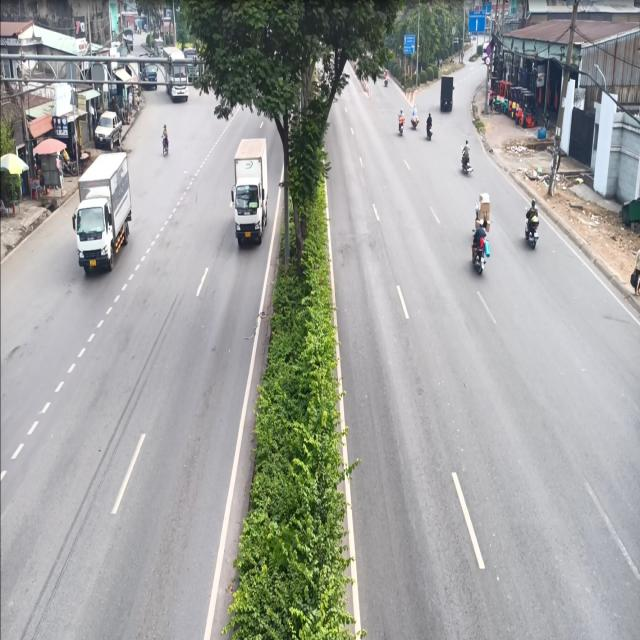motor: (522, 194, 542, 254), (471, 222, 486, 278), (460, 138, 474, 182), (160, 118, 171, 162)
truck: (76, 146, 136, 274), (232, 132, 271, 252)
